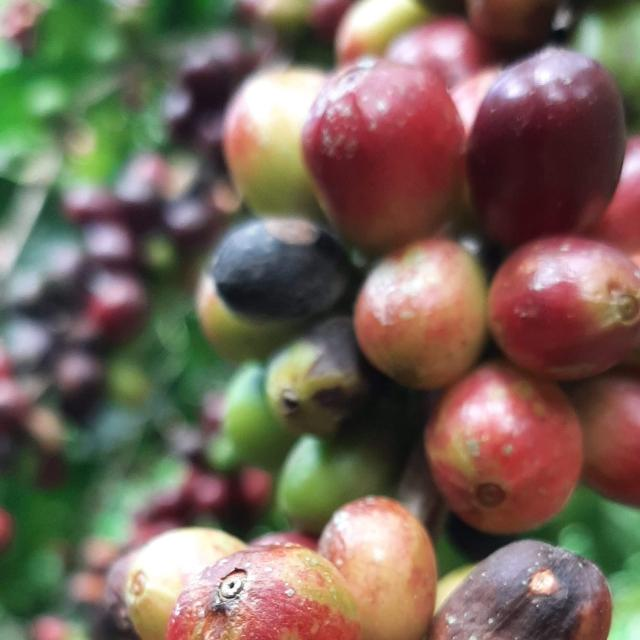green: (276, 435, 394, 535), (195, 273, 303, 362), (223, 362, 296, 471)
red: (468, 46, 627, 245), (430, 541, 612, 640), (211, 217, 349, 319), (265, 316, 374, 436), (386, 16, 488, 87)
yellow: (302, 56, 466, 252), (425, 363, 584, 535), (489, 236, 640, 381), (354, 239, 488, 390), (166, 545, 361, 640), (319, 497, 437, 640), (223, 67, 326, 219), (124, 528, 246, 640), (573, 375, 640, 507), (335, 0, 429, 64)
